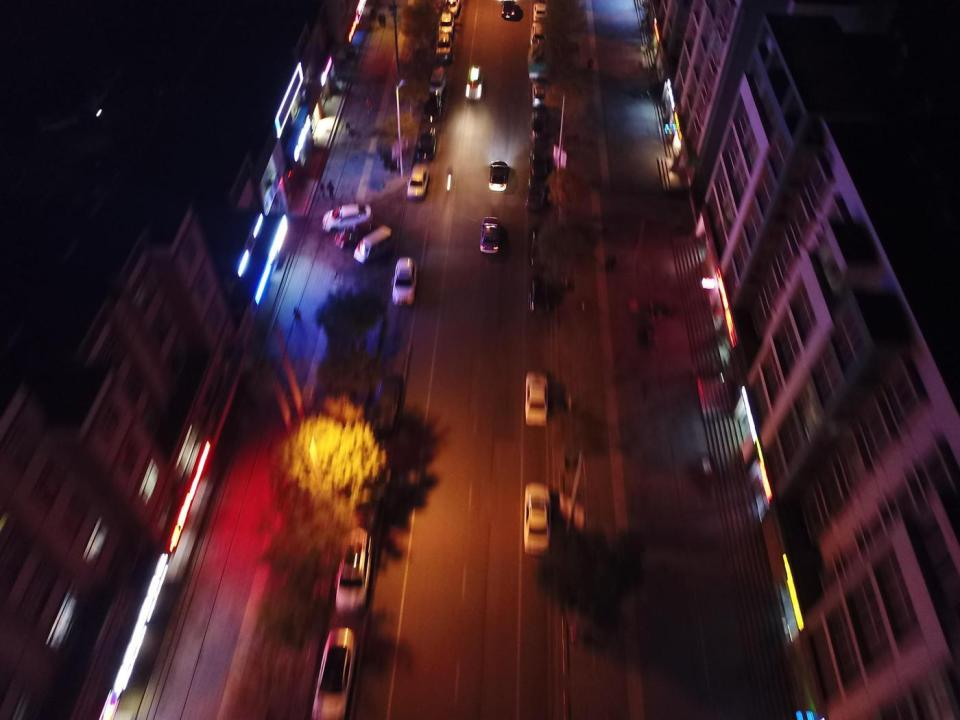car: (310, 626, 357, 720), (333, 526, 372, 614), (346, 443, 387, 523), (367, 375, 400, 435), (524, 481, 550, 555), (322, 203, 373, 232), (335, 221, 382, 248), (525, 372, 547, 425), (393, 258, 417, 304), (531, 226, 550, 270), (528, 277, 550, 314), (526, 174, 548, 210), (407, 162, 428, 197), (481, 216, 499, 253), (416, 128, 436, 160), (529, 148, 550, 176), (490, 160, 508, 192), (421, 93, 442, 120), (465, 64, 481, 99), (530, 111, 546, 143), (436, 32, 450, 63), (532, 82, 548, 107), (438, 12, 454, 36), (533, 3, 548, 22), (501, 1, 516, 19), (443, 0, 459, 15)
truck: (528, 45, 552, 78)
van: (353, 224, 392, 265), (429, 66, 445, 94), (531, 22, 546, 47)
